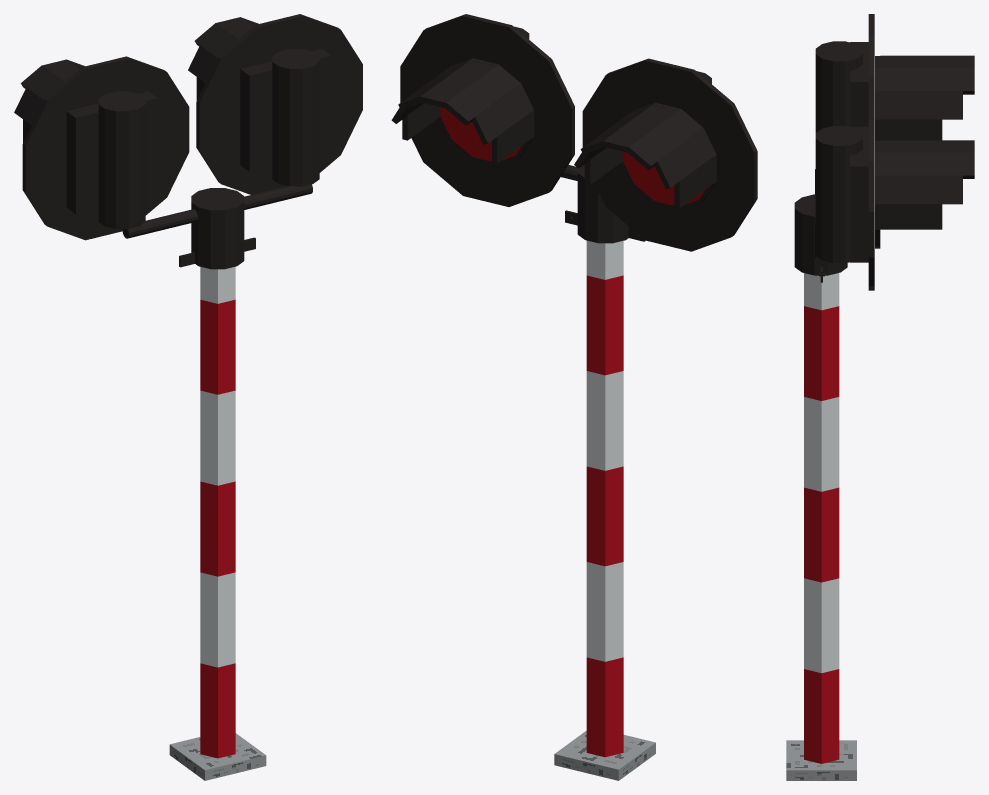
File: sd-k2_no_bell_no_cross.obj
3 views of the same model, side by side, from view 1: azimuth 30°, elevation 25°; view 2: azimuth 150°, elevation 25°; view 3: azimuth 270°, elevation 25° (orthographic). The views are drawn at different scales.
Parts seen in each view (by area): view 1: slup; view 2: slup, mrygR, mrygL; view 3: slup.
Part boxes in pixels (x1=…): slup: x1=14, y1=14, x2=362, y2=780; slup: x1=391, y1=14, x2=757, y2=780; mrygR: x1=441, y1=107, x2=521, y2=161; mrygL: x1=624, y1=152, x2=704, y2=205; slup: x1=786, y1=14, x2=974, y2=780.
Size of the model in its own units: 1.03 by 2.05 by 0.5.
